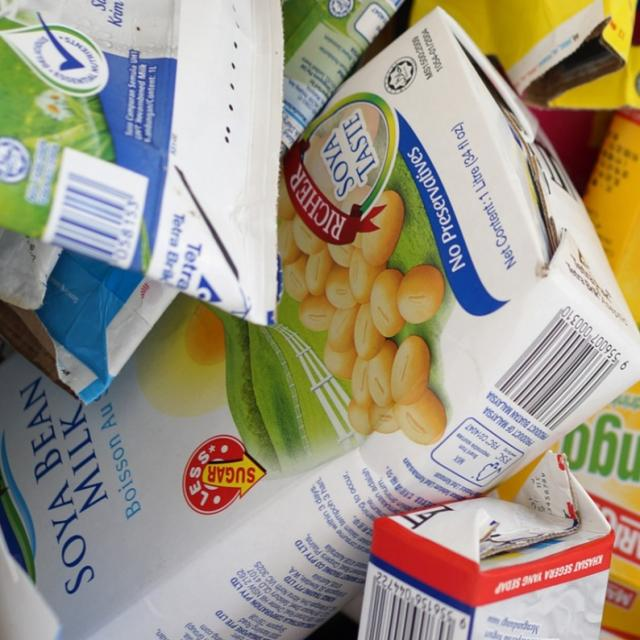drink carton: (4, 0, 640, 630)
